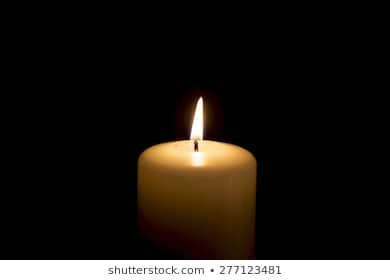Fire: (189, 95, 207, 149)
